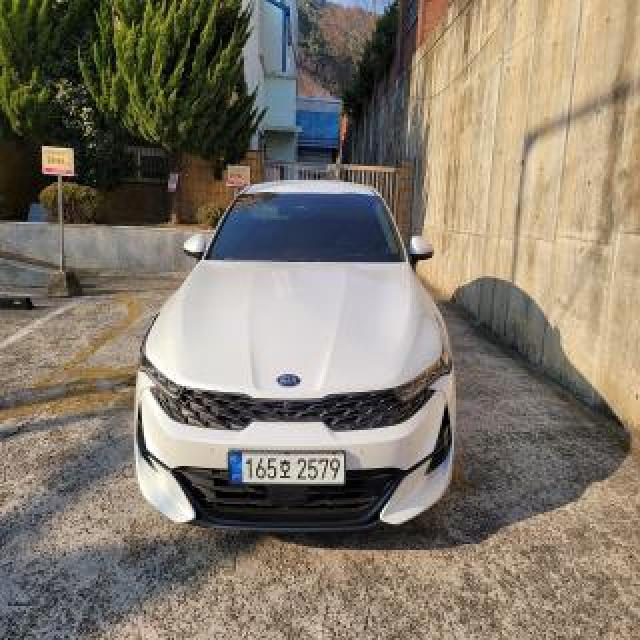car: (128, 172, 474, 549)
illegal_plate: (228, 447, 351, 491)
